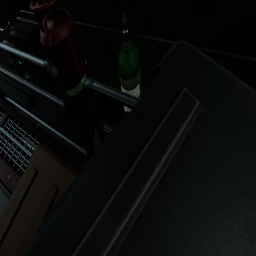0: (118, 14, 142, 113)
NitrogenTank ,: (30, 0, 102, 154), (35, 0, 66, 22)
